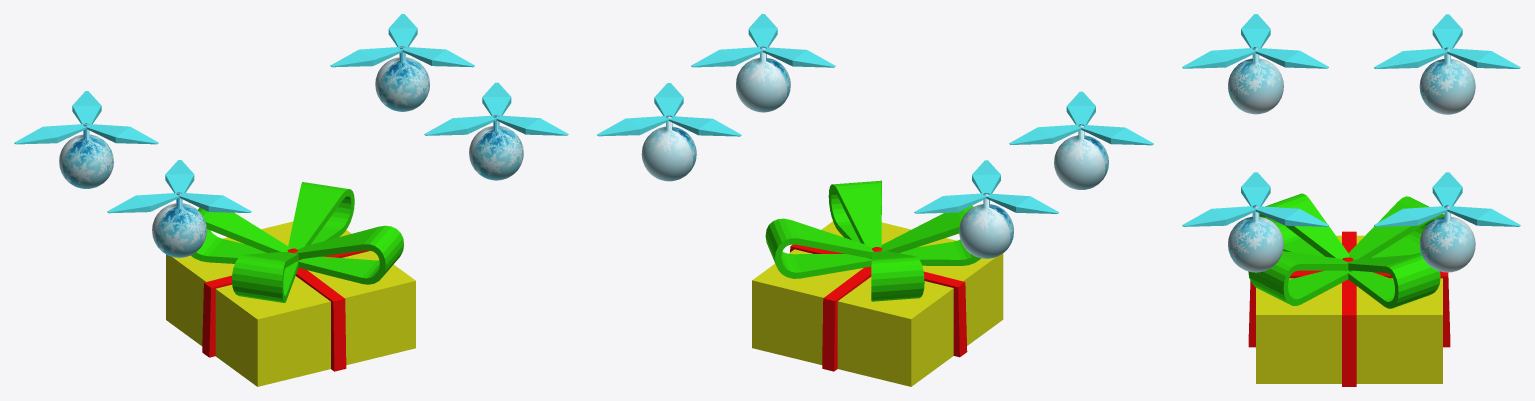
File: drone2-glb.glb
3 renders of one model, left to right at view 1: azimuth 30°, elevation 25°; view 2: azimuth 150°, elevation 25°; view 3: azimuth 270°, elevation 25°, orthographic. The views are drawn at different scales.
Parts seen in each view (by area): view 1: Cube, Cube.002, Cube.004, Sphere, Sphere.002, Sphere.001, Sphere.003; view 2: Cube, Cube.002, Cube.004, Sphere.001, Sphere.002, Sphere, Sphere.003; view 3: Cube, Cube.002, Cube.004, Sphere.003, Sphere.001, Sphere.002, Sphere.
Boxes of the visible parts, x1=… form: Cube: x1=166, y1=221, x2=415, y2=386; Cube.002: x1=191, y1=182, x2=403, y2=302; Cube.004: x1=14, y1=14, x2=568, y2=213; Sphere: x1=59, y1=123, x2=113, y2=188; Sphere.002: x1=469, y1=115, x2=523, y2=180; Sphere.001: x1=375, y1=46, x2=429, y2=111; Sphere.003: x1=152, y1=192, x2=206, y2=257; Cube: x1=752, y1=221, x2=1003, y2=386; Cube.002: x1=765, y1=180, x2=980, y2=301; Cube.004: x1=597, y1=14, x2=1153, y2=213; Sphere.001: x1=641, y1=115, x2=696, y2=181; Sphere.002: x1=736, y1=46, x2=790, y2=112; Sphere: x1=959, y1=193, x2=1013, y2=258; Sphere.003: x1=1054, y1=124, x2=1108, y2=189; Cube: x1=1248, y1=231, x2=1450, y2=386; Cube.002: x1=1248, y1=193, x2=1444, y2=308; Cube.004: x1=1182, y1=14, x2=1520, y2=226; Sphere.003: x1=1228, y1=47, x2=1283, y2=114; Sphere.001: x1=1419, y1=205, x2=1475, y2=272; Sphere.002: x1=1228, y1=205, x2=1283, y2=272; Sphere: x1=1419, y1=47, x2=1475, y2=114.
Size of the model in its own units: 10.73 by 5.16 by 7.23.
Materials: 5 (1 with a texture image).
